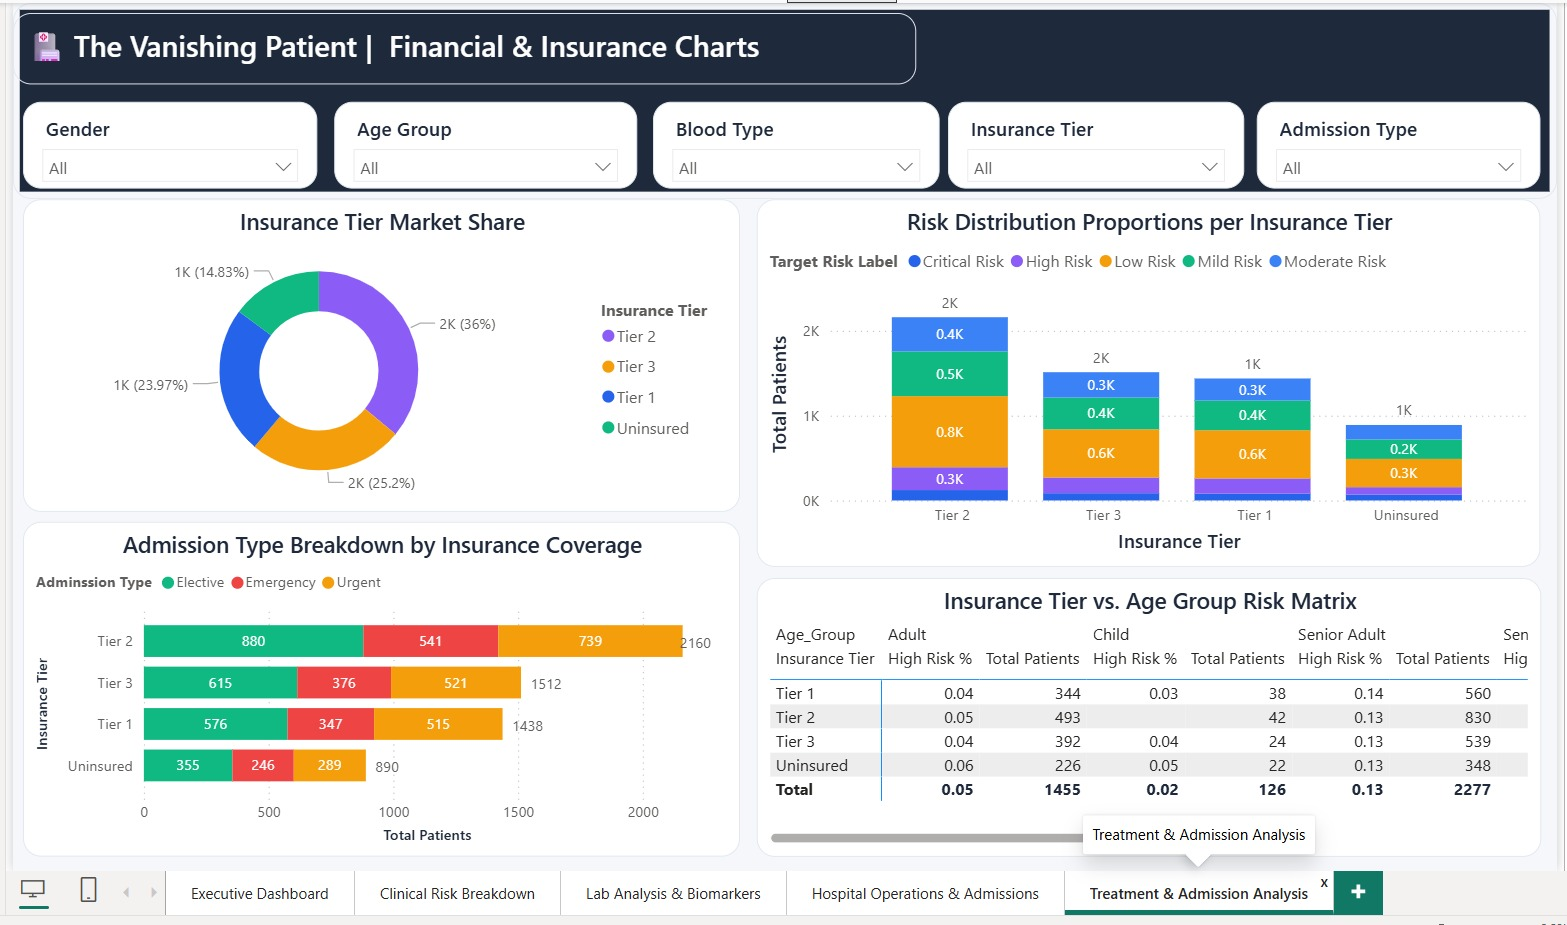

This screenshot's page, from the dashboard's own definition file:
{"tool":"powerbi","page":{"name":"Treatment & Admission Analysis","canvas":[1280,720],"ordinal":4},"visuals":[{"type":"shape","box":[0,0,1280.2,162.8],"z":0},{"type":"textbox","box":[0,8.1,748.8,59.3],"z":1000},{"type":"slicer","fields":{"Values":["train_feature_engineered.Gender_Label"]},"box":[8.1,81.4,244.2,72.1],"z":1001},{"type":"slicer","fields":{"Values":["train_feature_engineered.Age_Group"]},"box":[266.3,81.4,251.2,72.1],"z":1002},{"type":"slicer","fields":{"Values":["train_feature_engineered.blood Type"]},"box":[530.2,81.4,237.2,72.1],"z":1003},{"type":"slicer","fields":{"Values":["train_feature_engineered.Insurance Tier"]},"box":[775.6,81.4,245.3,72.1],"z":1004},{"type":"slicer","fields":{"Values":["train_feature_engineered.Adminssion Type"]},"box":[1031.4,81.4,234.9,72.1],"z":1005},{"type":"donutChart","title":"Insurance Tier Market Share","fields":{"Category":["train_feature_engineered.Insurance Tier"],"Y":["train_feature_engineered.Total Patients"]},"box":[8.7,162.5,594.2,259.3],"z":1006},{"type":"columnChart","title":"Risk Distribution Proportions per Insurance Tier","fields":{"Category":["train_feature_engineered.Insurance Tier"],"Y":["train_feature_engineered.Total Patients"],"Series":["train_feature_engineered.Target Risk Label"]},"box":[616.6,162.7,649.7,304.7],"z":1007},{"type":"barChart","title":"Admission Type Breakdown by Insurance Coverage","fields":{"Category":["train_feature_engineered.Insurance Tier"],"Y":["train_feature_engineered.Total Patients"],"Series":["train_feature_engineered.Adminssion Type"]},"box":[8.7,430.5,594.2,277.9],"z":1008},{"type":"pivotTable","title":"Insurance Tier vs. Age Group Risk Matrix","fields":{"Rows":["train_feature_engineered.Insurance Tier"],"Columns":["train_feature_engineered.Age_Group"],"Values":["train_feature_engineered.High Risk %","train_feature_engineered.Total Patients"]},"box":[616.6,476.7,650.8,231.1],"z":1009}]}

Visuals, with their boxes on the page's 1280x720 design canvas (x1, y1, x2, y2). These are canvas units, not pixel positions in the 1567x925 screenshot, which may show the page scaled, cropped or inside an application window:
shape: (x1=0, y1=0, x2=1280, y2=163)
textbox: (x1=0, y1=8, x2=749, y2=67)
slicer - train_feature_engineered.Gender_Label: (x1=8, y1=81, x2=252, y2=154)
slicer - train_feature_engineered.Age_Group: (x1=266, y1=81, x2=518, y2=154)
slicer - train_feature_engineered.blood Type: (x1=530, y1=81, x2=767, y2=154)
slicer - train_feature_engineered.Insurance Tier: (x1=776, y1=81, x2=1021, y2=154)
slicer - train_feature_engineered.Adminssion Type: (x1=1031, y1=81, x2=1266, y2=154)
"Insurance Tier Market Share" donutChart: (x1=9, y1=162, x2=603, y2=422)
"Risk Distribution Proportions per Insurance Tier" columnChart: (x1=617, y1=163, x2=1266, y2=467)
"Admission Type Breakdown by Insurance Coverage" barChart: (x1=9, y1=430, x2=603, y2=708)
"Insurance Tier vs. Age Group Risk Matrix" pivotTable: (x1=617, y1=477, x2=1267, y2=708)
